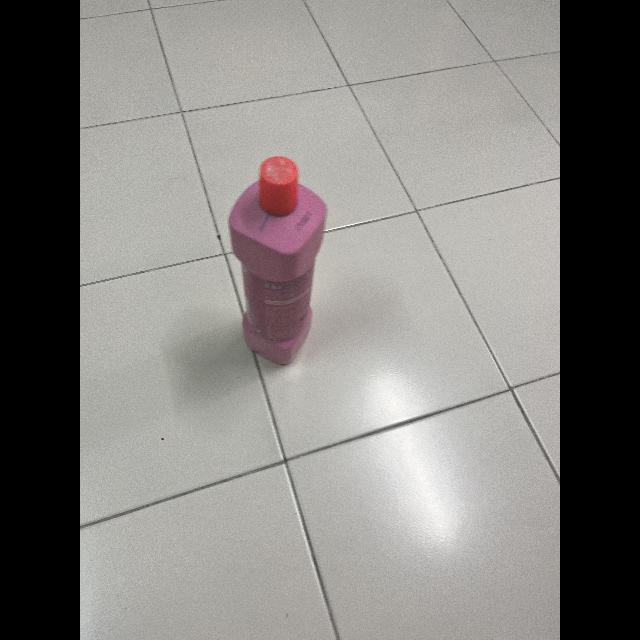chemical_plastic_bottle: (220, 152, 336, 368)
